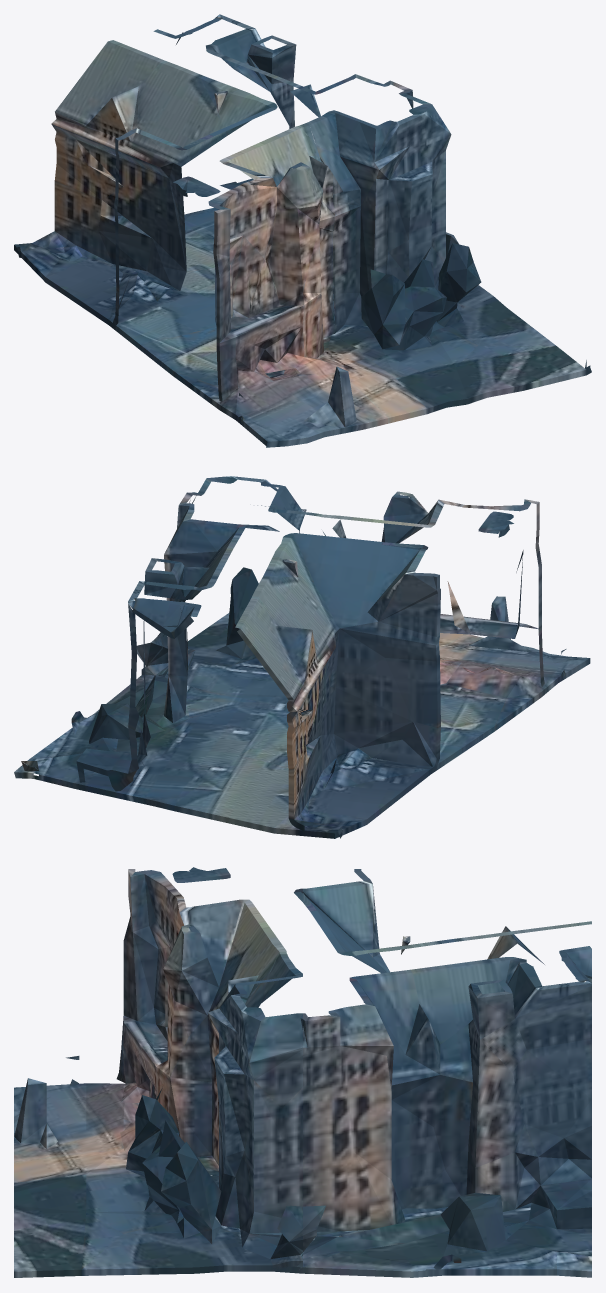
Rendered from chunk_-3_8.glb.
3 views of the same model, one above another, from view 1: azimuth 30°, elevation 25°; view 2: azimuth 150°, elevation 25°; view 3: azimuth 270°, elevation 25° (orthographic). The views are drawn at different scales.
Parts seen in each view (by area): view 1: hero-chunk; view 2: hero-chunk; view 3: hero-chunk.
Part boxes in pixels (bbox=[...]): hero-chunk: bbox=[14, 14, 591, 447]; hero-chunk: bbox=[14, 476, 590, 838]; hero-chunk: bbox=[14, 867, 591, 1277].
Bounding box in the file's own units: 56.97 × 33.77 × 76.32.
Materials: 2 (2 with a texture image).
